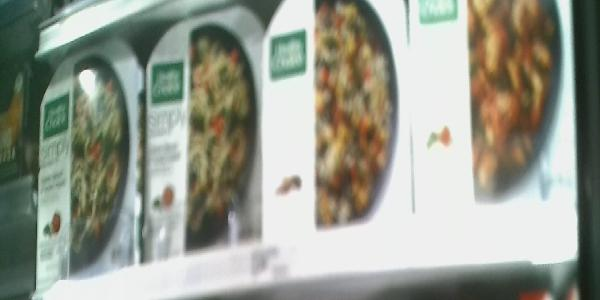pizza1: (412, 1, 580, 228), (262, 3, 411, 247), (137, 8, 261, 264), (33, 62, 137, 284)
